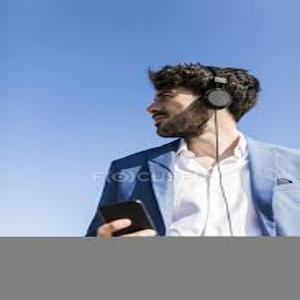Headphones: (202, 63, 232, 109)
